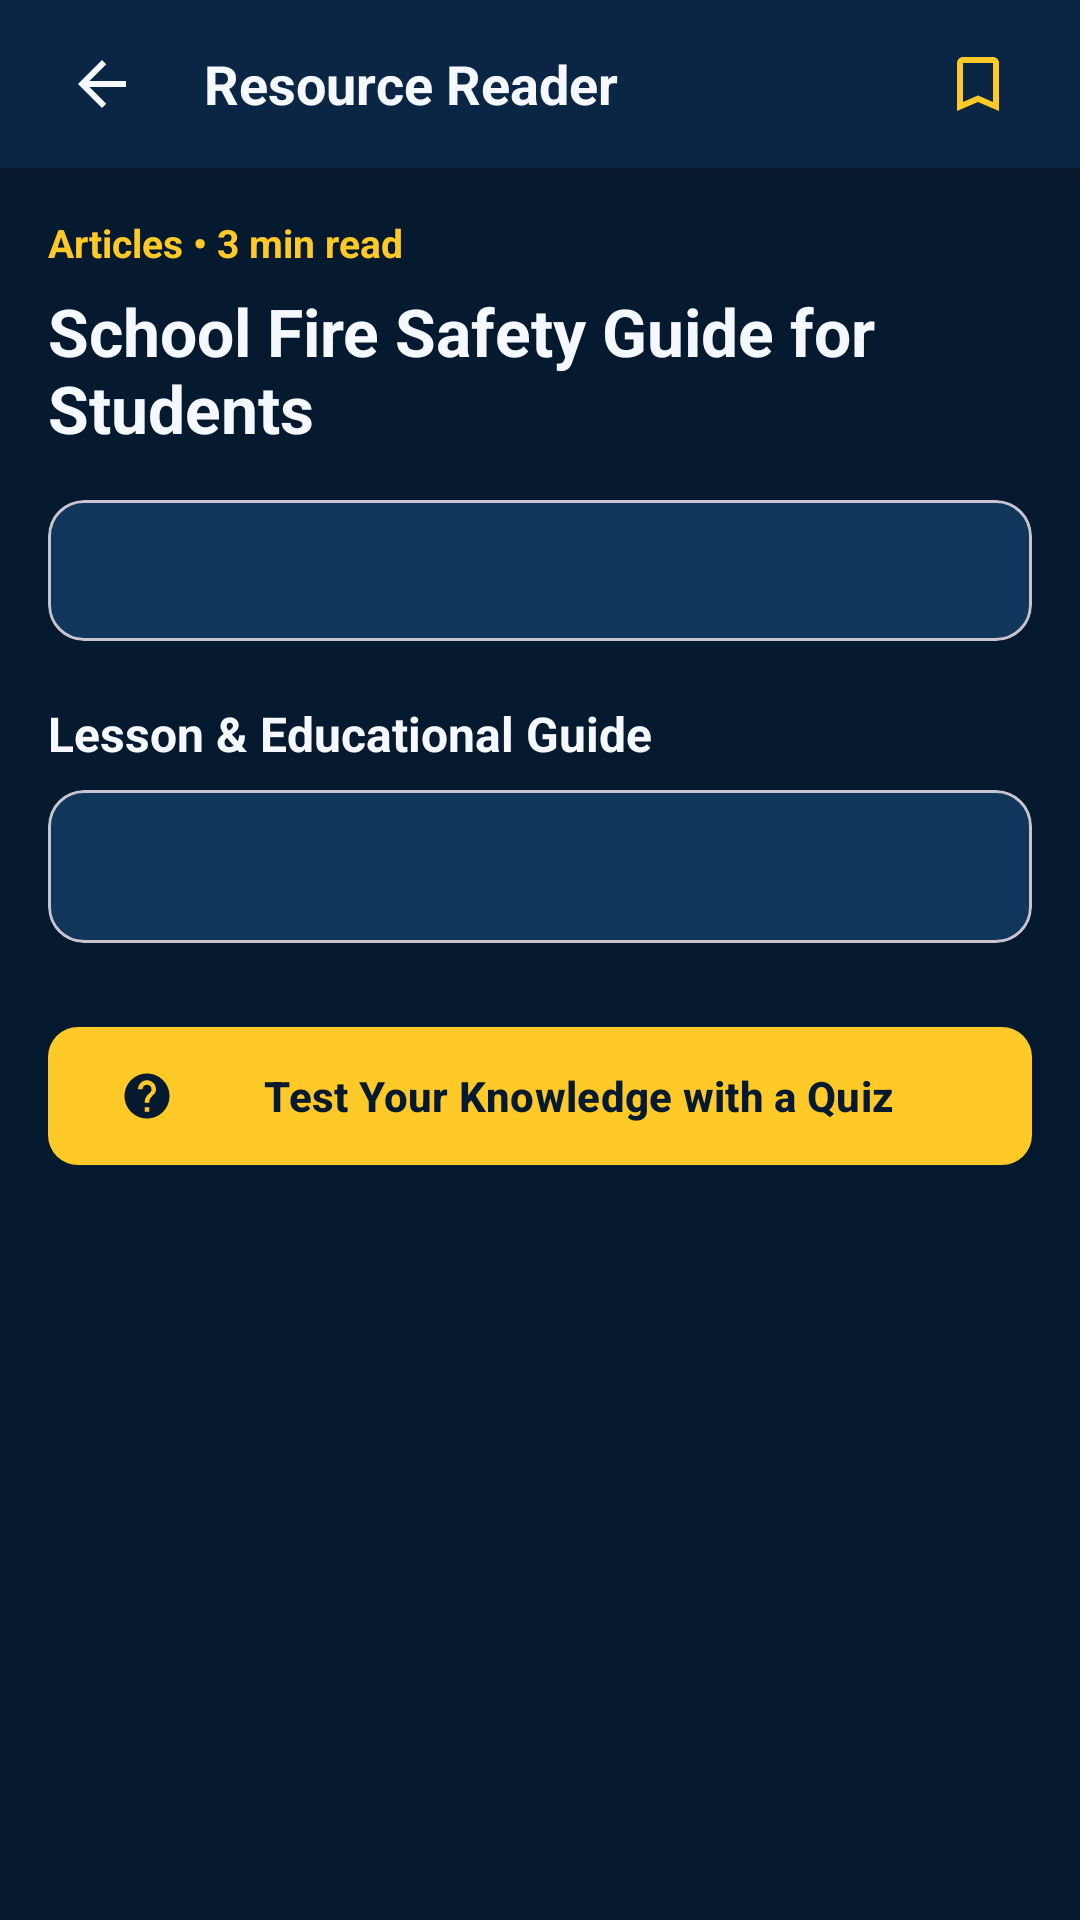

Where icons sit on this 1080px×1920px app screen, as box(x1, y1, x2, y2):
Back: box(78, 60, 126, 108)
Bookmark: box(957, 57, 999, 111)
